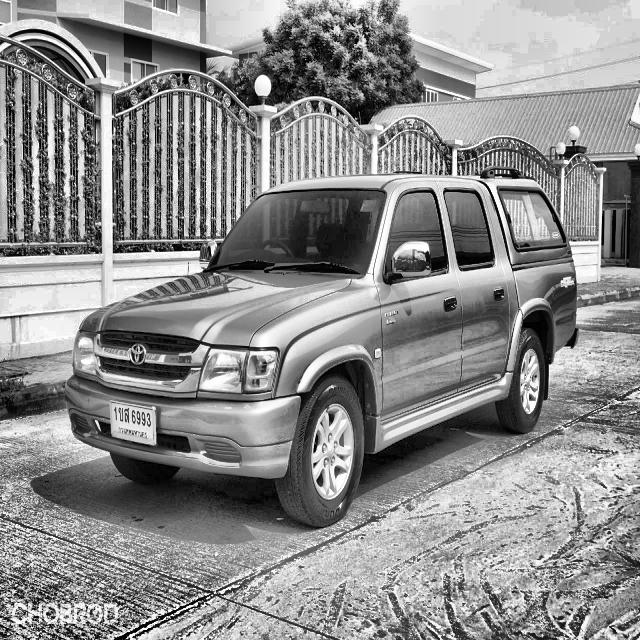license-plate: (104, 396, 162, 452)
